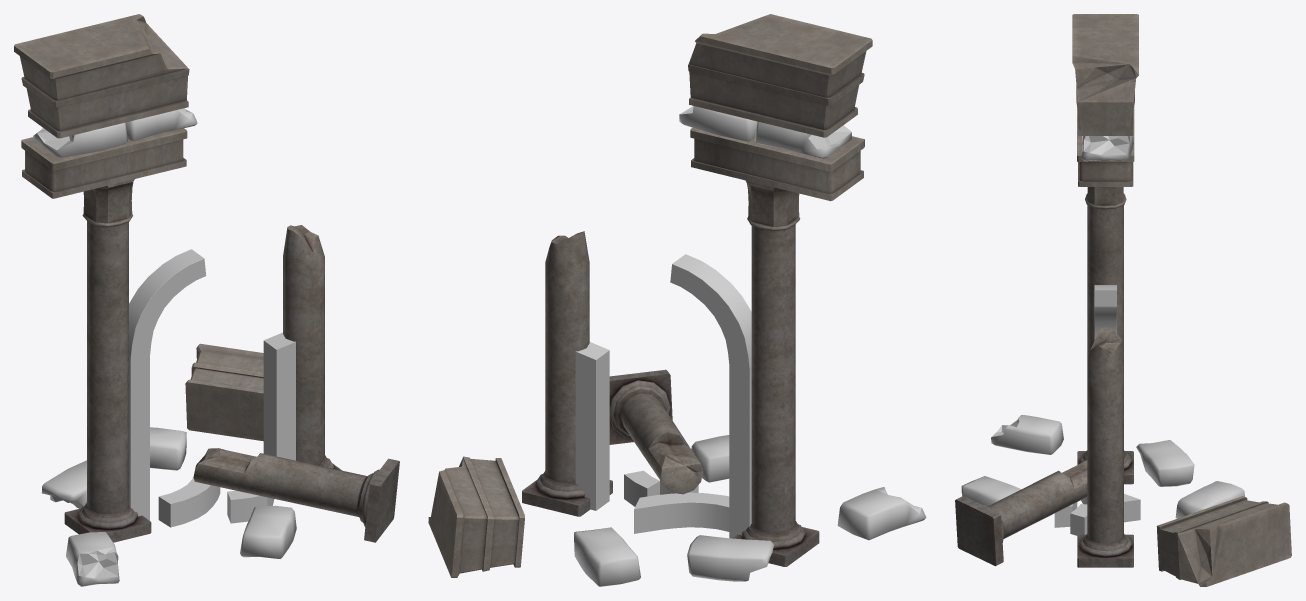
File: sb_obj_outdoor009_AncientTemple_set02.fbx
The picture shows the model from 3 angles, left to right: view 1: azimuth 30°, elevation 25°; view 2: azimuth 150°, elevation 25°; view 3: azimuth 270°, elevation 25°; orthographic projection. The views are drawn at different scales.
Parts seen in each view (by area): view 1: sb_obj_outdoor009_AncientTemple_set02; view 2: sb_obj_outdoor009_AncientTemple_set02; view 3: sb_obj_outdoor009_AncientTemple_set02.
Part boxes in pixels (x1,y1,x2,y2): sb_obj_outdoor009_AncientTemple_set02: (14,14,399,586); sb_obj_outdoor009_AncientTemple_set02: (428,14,926,586); sb_obj_outdoor009_AncientTemple_set02: (955,14,1291,586).
Bounding box in the file's own units: 6.44 × 8.4 × 6.01.
